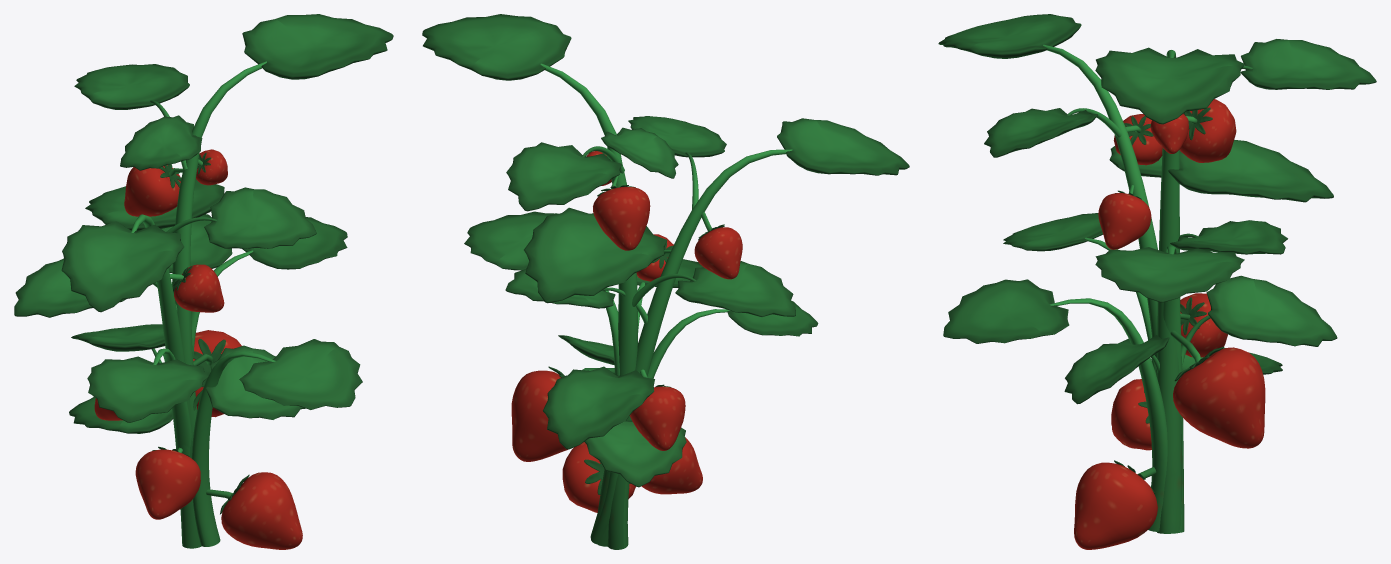
The model's file is Fresa_Planta.fbx.
3 renders of one model, left to right at view 1: azimuth 30°, elevation 25°; view 2: azimuth 150°, elevation 25°; view 3: azimuth 270°, elevation 25°, orthographic. The views are drawn at different scales.
Visible parts, largest first — view 1: Fresas1_Fresa1_Hojitas_Hoja; view 2: Fresas1_Fresa1_Hojitas_Hoja; view 3: Fresas1_Fresa1_Hojitas_Hoja.
Boxes of the visible parts, x1,y1,x2,y2 form: Fresas1_Fresa1_Hojitas_Hoja: (14, 14, 393, 549); Fresas1_Fresa1_Hojitas_Hoja: (422, 14, 909, 549); Fresas1_Fresa1_Hojitas_Hoja: (938, 14, 1376, 549).
Bounding box in the file's own units: 6.9 × 7.9 × 6.01.
